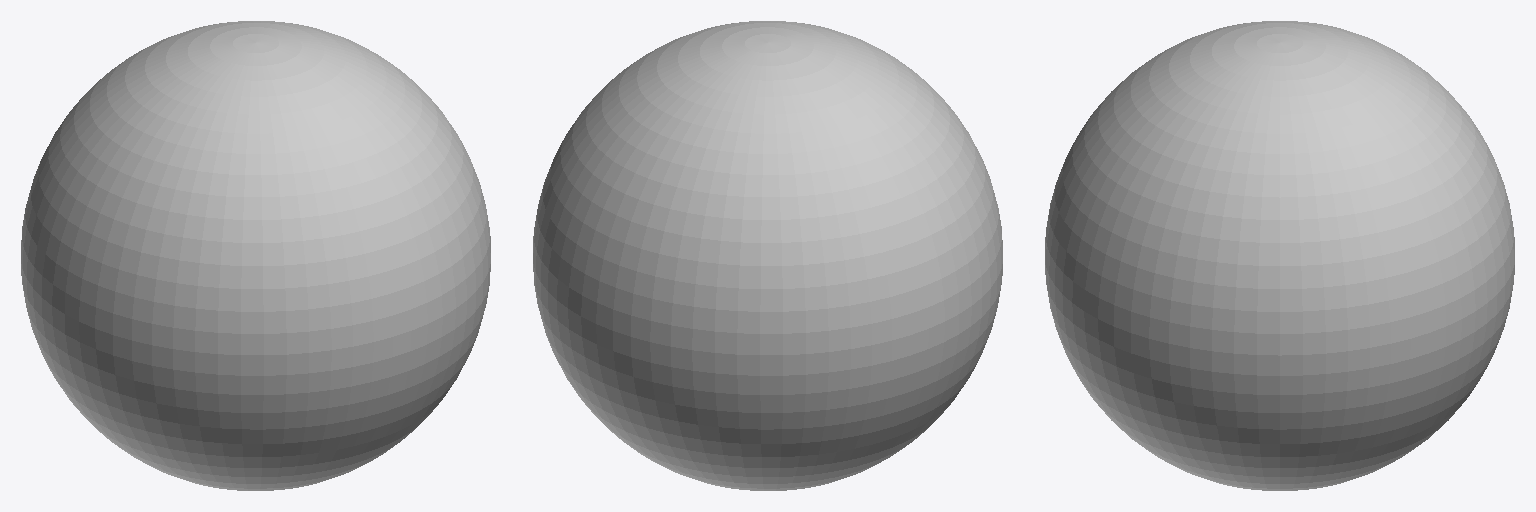
File: sun.obj
3 renders of one model, left to right at view 1: azimuth 30°, elevation 25°; view 2: azimuth 150°, elevation 25°; view 3: azimuth 270°, elevation 25°, orthographic.
Visible parts, largest first — view 1: Esfera_UV; view 2: Esfera_UV; view 3: Esfera_UV.
Part boxes in pixels (x1,y1,x2,y2): Esfera_UV: (21,21,490,490); Esfera_UV: (533,21,1002,490); Esfera_UV: (1045,21,1514,490).
Size of the model in its own units: 10 by 10 by 10.